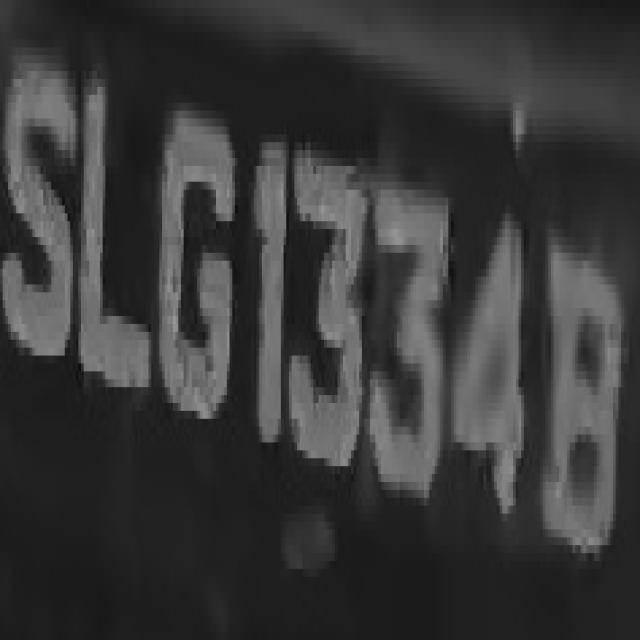1: (254, 111, 294, 466)
3: (289, 118, 365, 490), (368, 158, 448, 506)
4: (448, 182, 535, 545)
B: (543, 221, 626, 577)
G: (154, 110, 235, 434)
L: (73, 71, 151, 419)
S: (11, 8, 67, 387)
